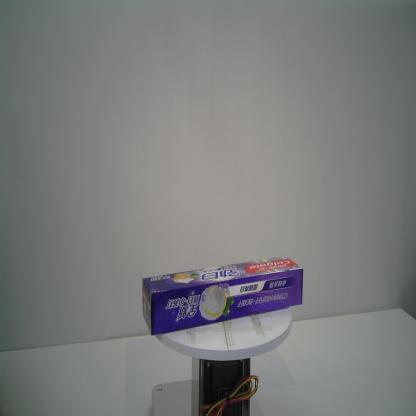Personal Hygiene: (142, 254, 304, 336)
